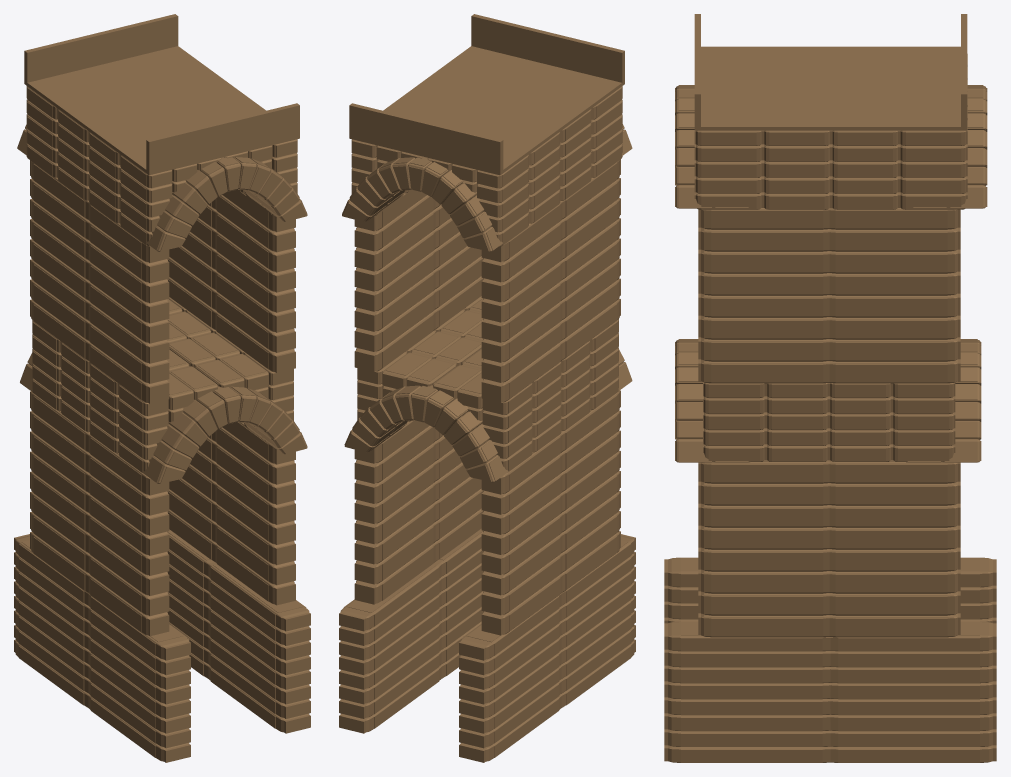
Rendered from ColumnaPlana.fbx.
3 views of the same model, side by side, from view 1: azimuth 30°, elevation 25°; view 2: azimuth 150°, elevation 25°; view 3: azimuth 270°, elevation 25° (orthographic). The views are drawn at different scales.
Visible parts, largest first — view 1: ArcoLadrillos.002, Plataforma; view 2: ArcoLadrillos.002, Plataforma; view 3: ArcoLadrillos.002, Plataforma.
Boxes of the visible parts, x1,y1,x2,y2 form: ArcoLadrillos.002: (14,86,310,762); Plataforma: (24,14,299,175); ArcoLadrillos.002: (339,86,635,762); Plataforma: (349,14,624,175); ArcoLadrillos.002: (664,54,996,762); Plataforma: (694,14,967,130).
Size of the model in its own units: 2.38 by 9.22 by 4.14.
